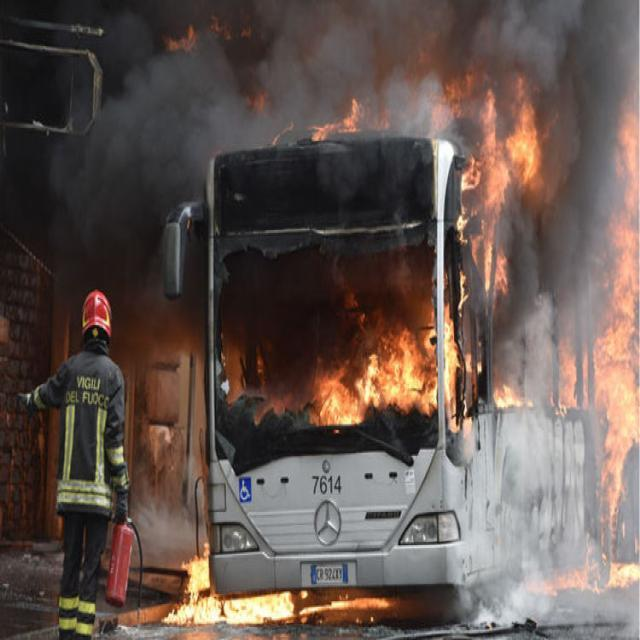Fire: (552, 112, 640, 542), (308, 302, 470, 436), (457, 80, 545, 290), (310, 42, 485, 144), (160, 541, 293, 624), (524, 540, 638, 600), (166, 15, 252, 59), (493, 380, 522, 410)
Smoke: (41, 0, 640, 415), (457, 294, 640, 640)
